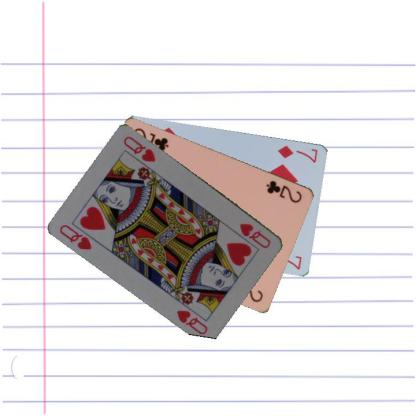2c: (263, 178, 304, 204)
7d: (276, 142, 319, 164)
Qh: (57, 222, 94, 252), (236, 220, 272, 250)
